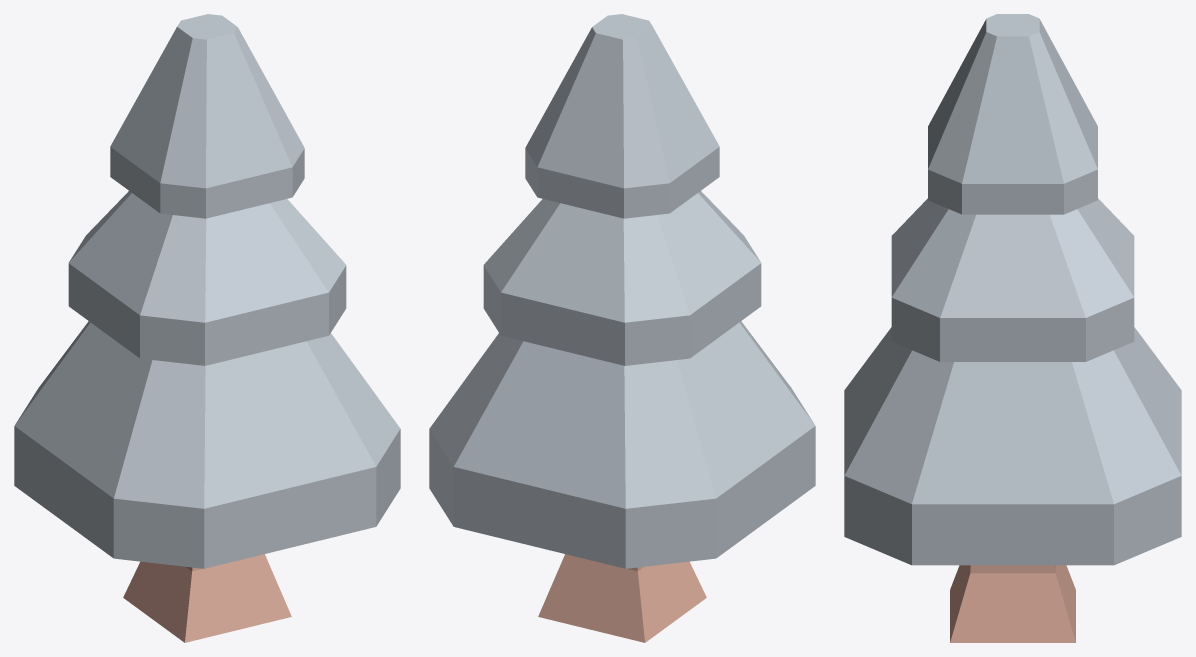
Rendered from proto_pine_snow_small.glb.
3 views of the same model, side by side, from view 1: azimuth 30°, elevation 25°; view 2: azimuth 150°, elevation 25°; view 3: azimuth 270°, elevation 25° (orthographic).
Visible parts, largest first — view 1: tree_pineSmallA; view 2: tree_pineSmallA; view 3: tree_pineSmallA.
Boxes of the visible parts, x1,y1,x2,y2 form: tree_pineSmallA: [14, 14, 400, 642]; tree_pineSmallA: [429, 14, 815, 642]; tree_pineSmallA: [844, 14, 1181, 642].
Size of the model in its own units: 3.1 by 6 by 3.1.
